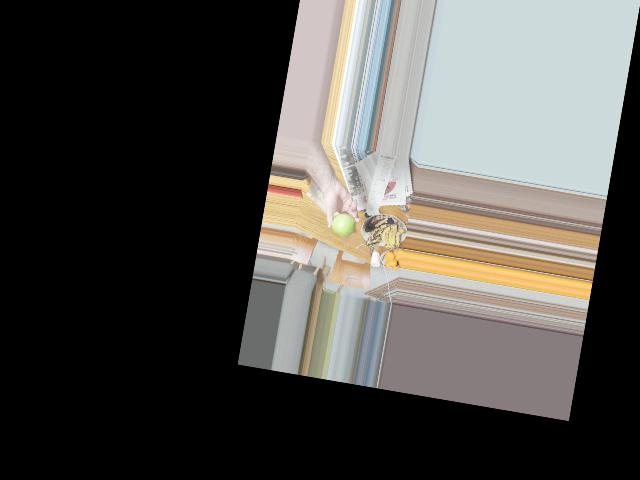apple: (329, 208, 359, 239)
